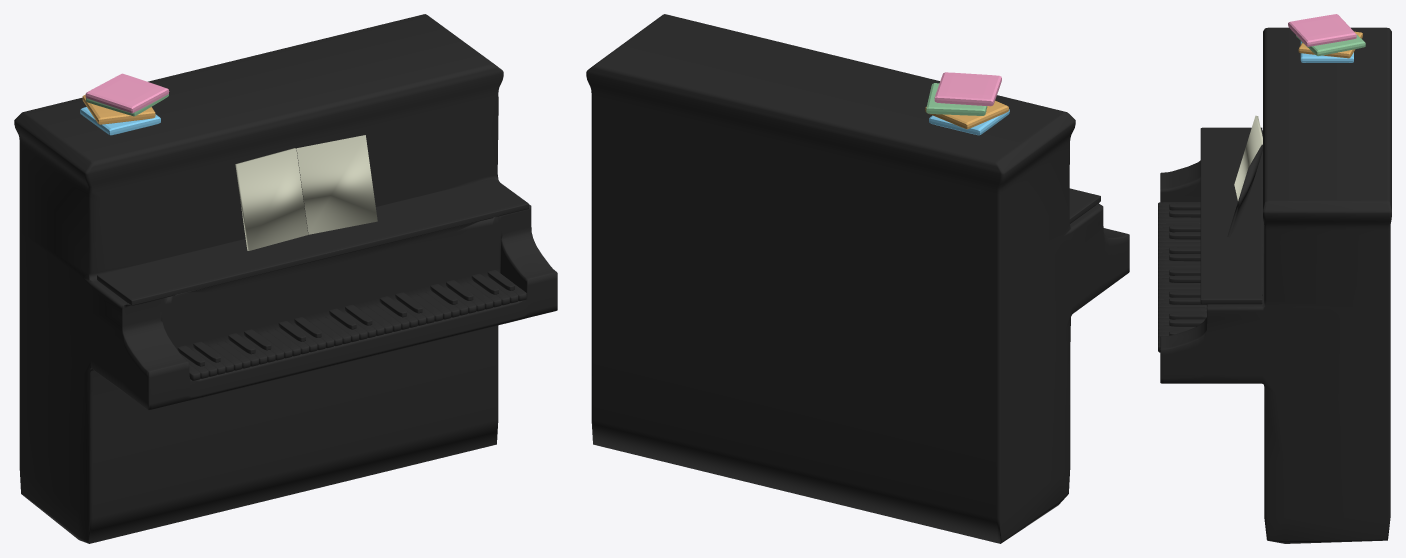
Rendered from Piano.fbx.
3 renders of one model, left to right at view 1: azimuth 30°, elevation 25°; view 2: azimuth 150°, elevation 25°; view 3: azimuth 270°, elevation 25°, orthographic. The views are drawn at different scales.
Visible parts, largest first — view 1: Piano; view 2: Piano; view 3: Piano.
Part boxes in pixels (x1=…): Piano: x1=14, y1=14, x2=557, y2=543; Piano: x1=586, y1=14, x2=1129, y2=543; Piano: x1=1158, y1=14, x2=1391, y2=543.
Size of the model in its own units: 148 by 142 by 81.16.
